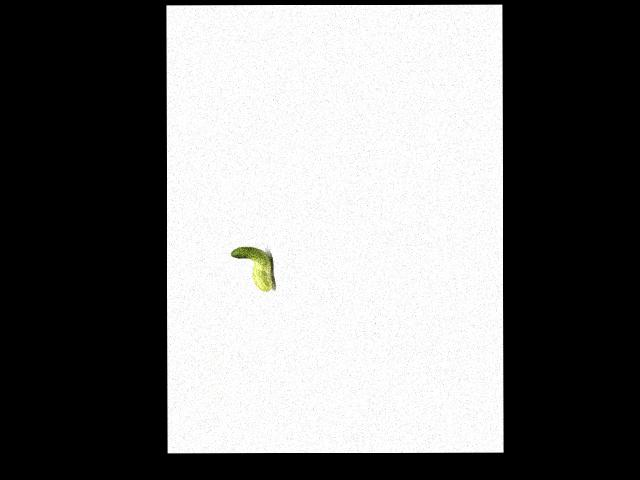cucumber: (231, 246, 273, 291)
